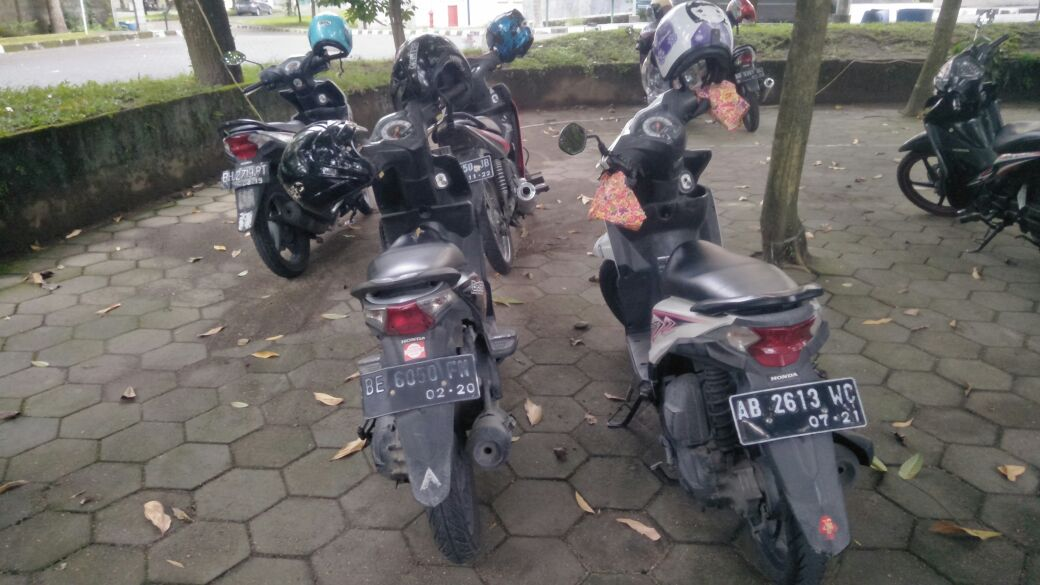plate: (733, 378, 866, 447), (360, 355, 483, 420), (219, 162, 271, 189)
